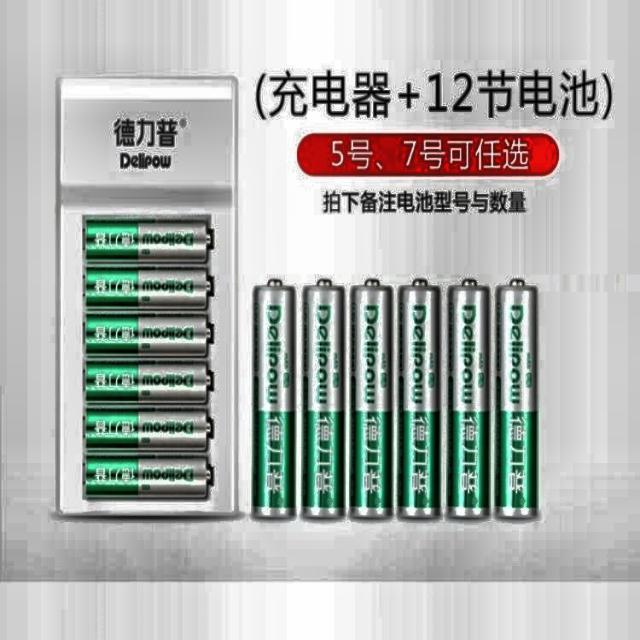Non-Valuable Waste - Batteries: (252, 280, 295, 517), (302, 280, 344, 517), (496, 280, 538, 517), (399, 280, 440, 517), (448, 280, 489, 517), (351, 280, 392, 516), (85, 314, 211, 356), (85, 457, 212, 498), (85, 220, 211, 261), (85, 410, 212, 450), (86, 363, 211, 403), (86, 269, 210, 309)
